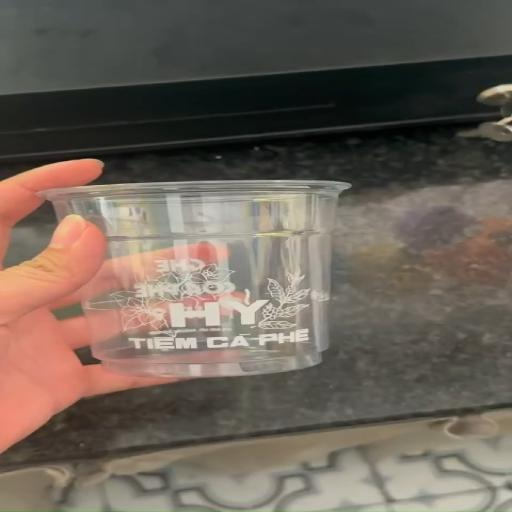Ly_giay: (39, 180, 350, 378)
ly_nhua: (38, 180, 350, 378)
